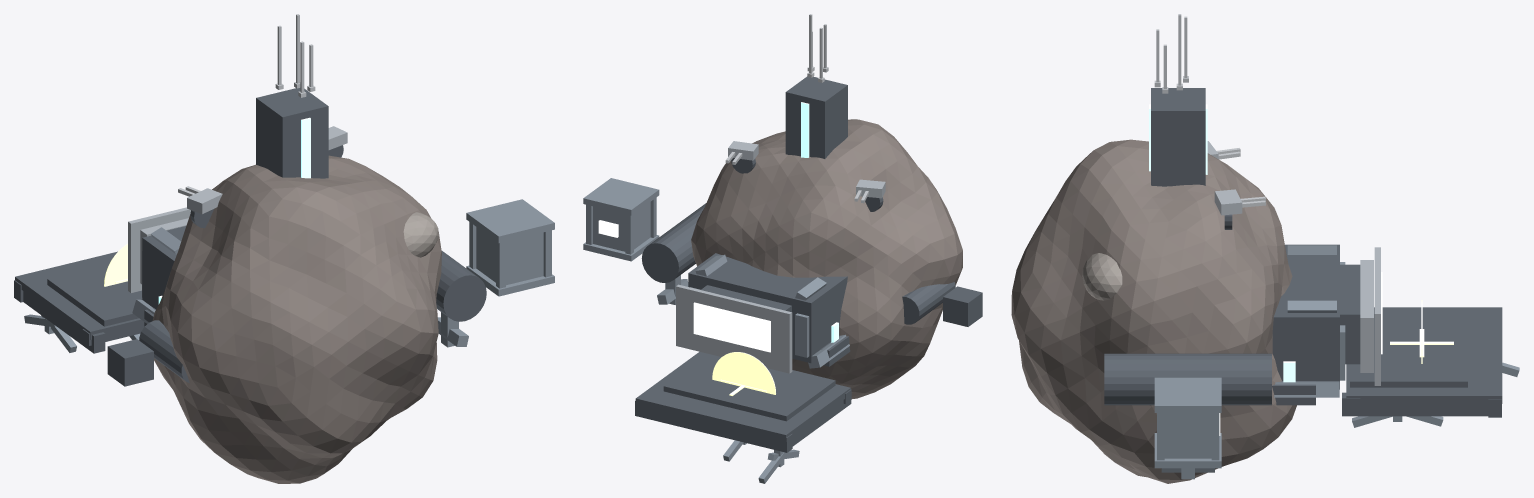
File: StartingHQ.glb
3 renders of one model, left to right at view 1: azimuth 30°, elevation 25°; view 2: azimuth 150°, elevation 25°; view 3: azimuth 270°, elevation 25°, orthographic. The views are drawn at different scales.
Parts seen in each view (by area): view 1: AsteroidBody, LandingPlatform, DockTerminal, CommandSpire, MiniDockArm, DockTunnel, HangarOuter, HangarFrame, RockPatch1, HangarBraceL, DockPylon2, PadRing (+3 smaller); view 2: AsteroidBody, LandingPlatform, HangarOuter, DockTerminal, HangarFrame, CommandSpire, MiniDockArm, HangarInteriorGlow, DockTunnel, PadRing, HangarBraceL, PlatformSupport1 (+4 smaller); view 3: AsteroidBody, LandingPlatform, HangarOuter, DockTunnel, DockTerminal, CommandSpire, HangarFrame, HangarBraceR, RockPatch1, TurretHead3, PlatformSupport3.
Part boxes in pixels (x1=…): AsteroidBody: x1=152, y1=155, x2=441, y2=483; LandingPlatform: x1=14, y1=251, x2=144, y2=353; DockTerminal: x1=466, y1=199, x2=554, y2=296; CommandSpire: x1=256, y1=88, x2=328, y2=178; MiniDockArm: x1=107, y1=320, x2=189, y2=386; DockTunnel: x1=436, y1=251, x2=486, y2=321; HangarOuter: x1=142, y1=226, x2=186, y2=326; HangarFrame: x1=128, y1=207, x2=190, y2=292; RockPatch1: x1=403, y1=212, x2=438, y2=257; HangarBraceL: x1=132, y1=227, x2=181, y2=323; DockPylon2: x1=437, y1=312, x2=468, y2=347; PadRing: x1=104, y1=243, x2=127, y2=286; AsteroidBody: x1=691, y1=119, x2=962, y2=398; LandingPlatform: x1=635, y1=351, x2=851, y2=452; HangarOuter: x1=688, y1=253, x2=850, y2=366; DockTerminal: x1=583, y1=178, x2=659, y2=261; HangarFrame: x1=676, y1=284, x2=792, y2=373; CommandSpire: x1=785, y1=76, x2=847, y2=158; MiniDockArm: x1=902, y1=282, x2=982, y2=326; HangarInteriorGlow: x1=693, y1=302, x2=770, y2=352; DockTunnel: x1=641, y1=203, x2=706, y2=282; PadRing: x1=712, y1=352, x2=775, y2=394; HangarBraceL: x1=795, y1=277, x2=849, y2=368; PlatformSupport1: x1=758, y1=449, x2=799, y2=483; AsteroidBody: x1=1011, y1=139, x2=1296, y2=483; LandingPlatform: x1=1342, y1=307, x2=1502, y2=417; HangarOuter: x1=1272, y1=244, x2=1360, y2=405; DockTunnel: x1=1104, y1=353, x2=1271, y2=405; DockTerminal: x1=1154, y1=377, x2=1221, y2=468; CommandSpire: x1=1151, y1=88, x2=1205, y2=186; HangarFrame: x1=1360, y1=247, x2=1380, y2=385; HangarBraceR: x1=1274, y1=300, x2=1345, y2=397; RockPatch1: x1=1082, y1=253, x2=1122, y2=300; TurretHead3: x1=1214, y1=189, x2=1242, y2=215; PlatformSupport3: x1=1352, y1=416, x2=1443, y2=427.
Size of the model in its own units: 6.77 by 6.72 by 6.67.
